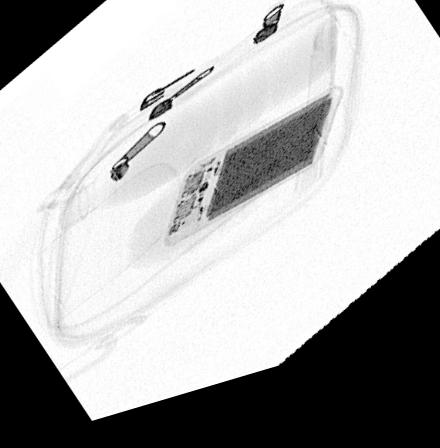Powerbank: (163, 103, 344, 256)
